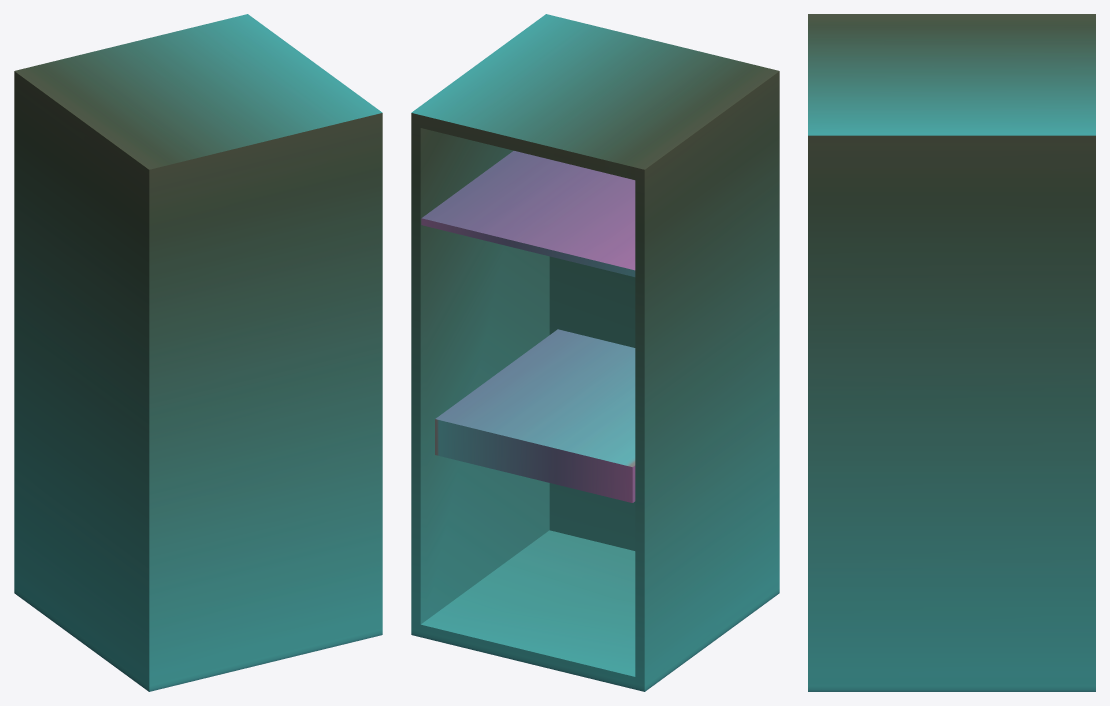
File: serverDesign1_lo.fbx
3 renders of one model, left to right at view 1: azimuth 30°, elevation 25°; view 2: azimuth 150°, elevation 25°; view 3: azimuth 270°, elevation 25°, orthographic. The views are drawn at different scales.
Visible parts, largest first — view 1: serverShell; view 2: serverShell, server, rack; view 3: serverShell.
Boxes of the visible parts, x1,y1,x2,y2 form: serverShell: [14, 14, 382, 691]; serverShell: [411, 14, 779, 691]; server: [435, 329, 635, 502]; rack: [421, 151, 635, 276]; serverShell: [808, 14, 1095, 691].
Size of the model in its own units: 41.43 by 88.48 by 41.46.
Materials: 1 (1 with a texture image).
